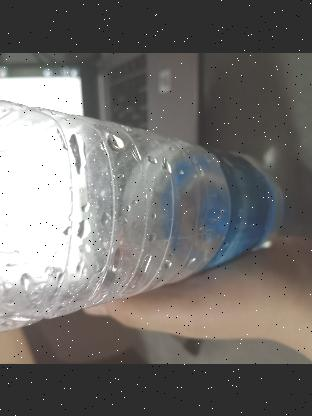Plastic Bottle: (0, 91, 286, 336)
